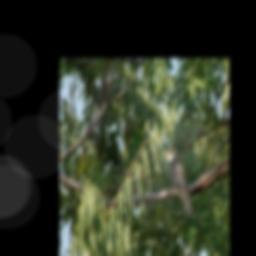Cuckoo: (163, 144, 197, 220)
